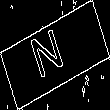N_SE: (34, 24, 76, 86)
